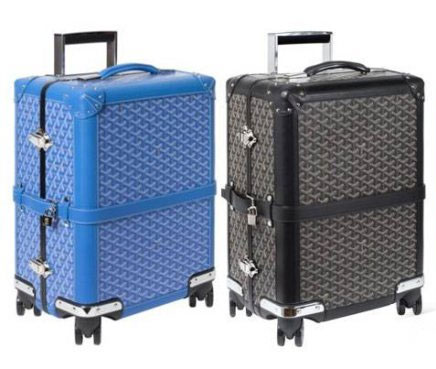luggage: (12, 30, 217, 346), (224, 28, 429, 344)
